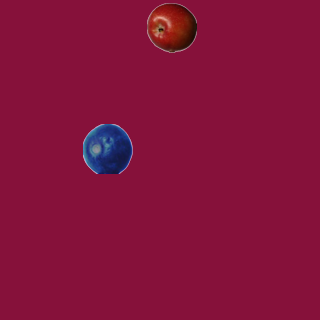Apple Braeburn: (146, 2, 196, 52)
Huckleberry: (82, 123, 132, 173)
